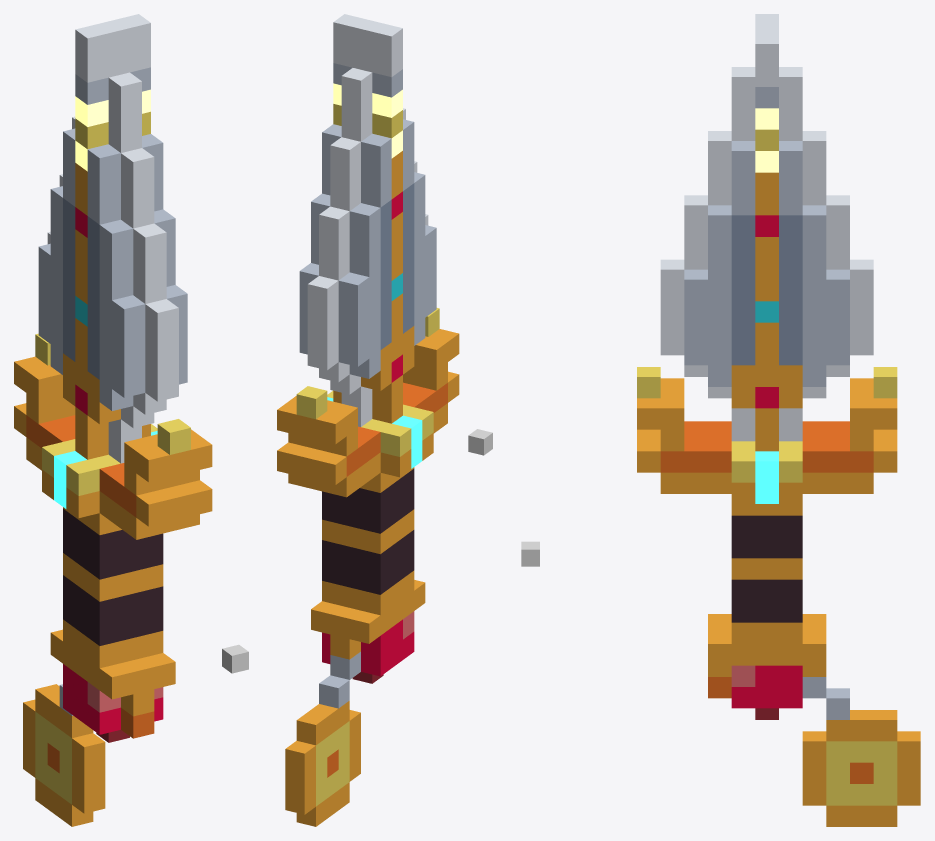
File: RelicDaggers.fbx
The picture shows the model from 3 angles, left to right: view 1: azimuth 30°, elevation 25°; view 2: azimuth 150°, elevation 25°; view 3: azimuth 270°, elevation 25°; orthographic projection. The views are drawn at different scales.
Visible parts, largest first — view 1: gold, steel_l, silver, leather, gold_l, steel, gold_d, ruby, eye, gemglow, ruby_l, UpMark; view 2: gold, steel_l, silver, leather, gold_l, steel, ruby, gold_d, eye, gemglow, UpMark; view 3: gold, silver, steel_l, gold_l, steel, gold_d, leather, ruby, gemglow, eye.
Boxes of the visible parts, <box> form: gold: <box>14,163,212,826</box>; steel_l: <box>38,67,187,715</box>; silver: <box>47,14,178,463</box>; leather: <box>63,508,163,645</box>; gold_l: <box>35,111,190,804</box>; steel: <box>63,198,99,379</box>; gold_d: <box>26,415,154,773</box>; ruby: <box>63,207,163,734</box>; eye: <box>75,89,150,171</box>; gemglow: <box>54,431,157,508</box>; ruby_l: <box>87,682,163,712</box>; UpMark: <box>222,644,248,673</box>; gold: <box>277,151,459,826</box>; steel_l: <box>299,63,436,708</box>; silver: <box>307,14,428,426</box>; leather: <box>322,468,414,594</box>; gold_l: <box>296,104,439,806</box>; steel: <box>380,183,414,349</box>; ruby: <box>322,191,414,676</box>; gold_d: <box>327,382,447,777</box>; eye: <box>333,83,402,158</box>; gemglow: <box>327,397,422,468</box>; UpMark: <box>468,429,492,455</box>; gold: <box>637,172,920,826</box>; silver: <box>660,14,873,441</box>; steel_l: <box>684,87,849,719</box>; gold_l: <box>637,129,897,805</box>; steel: <box>731,215,802,365</box>; gold_d: <box>660,421,873,783</box>; leather: <box>731,515,802,622</box>; ruby: <box>731,215,802,708</box>; gemglow: <box>755,451,778,503</box>; eye: <box>755,108,778,172</box>.
Bounding box in the file's own units: 50 × 370 × 169.
